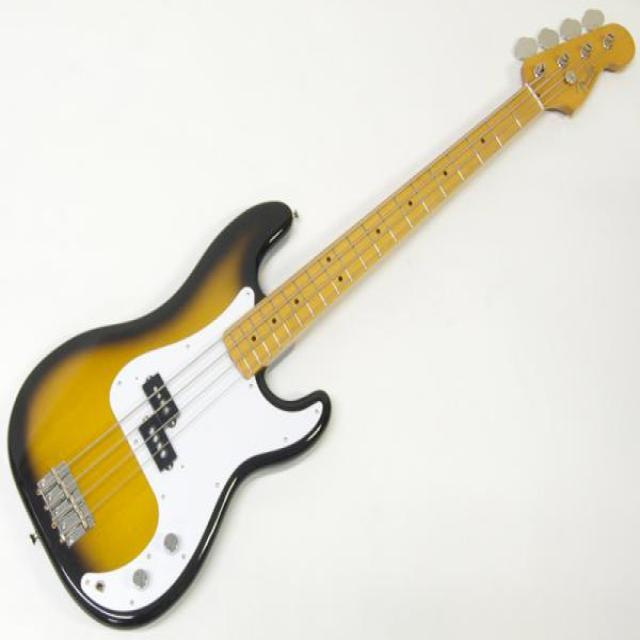bass: (9, 11, 633, 625)
